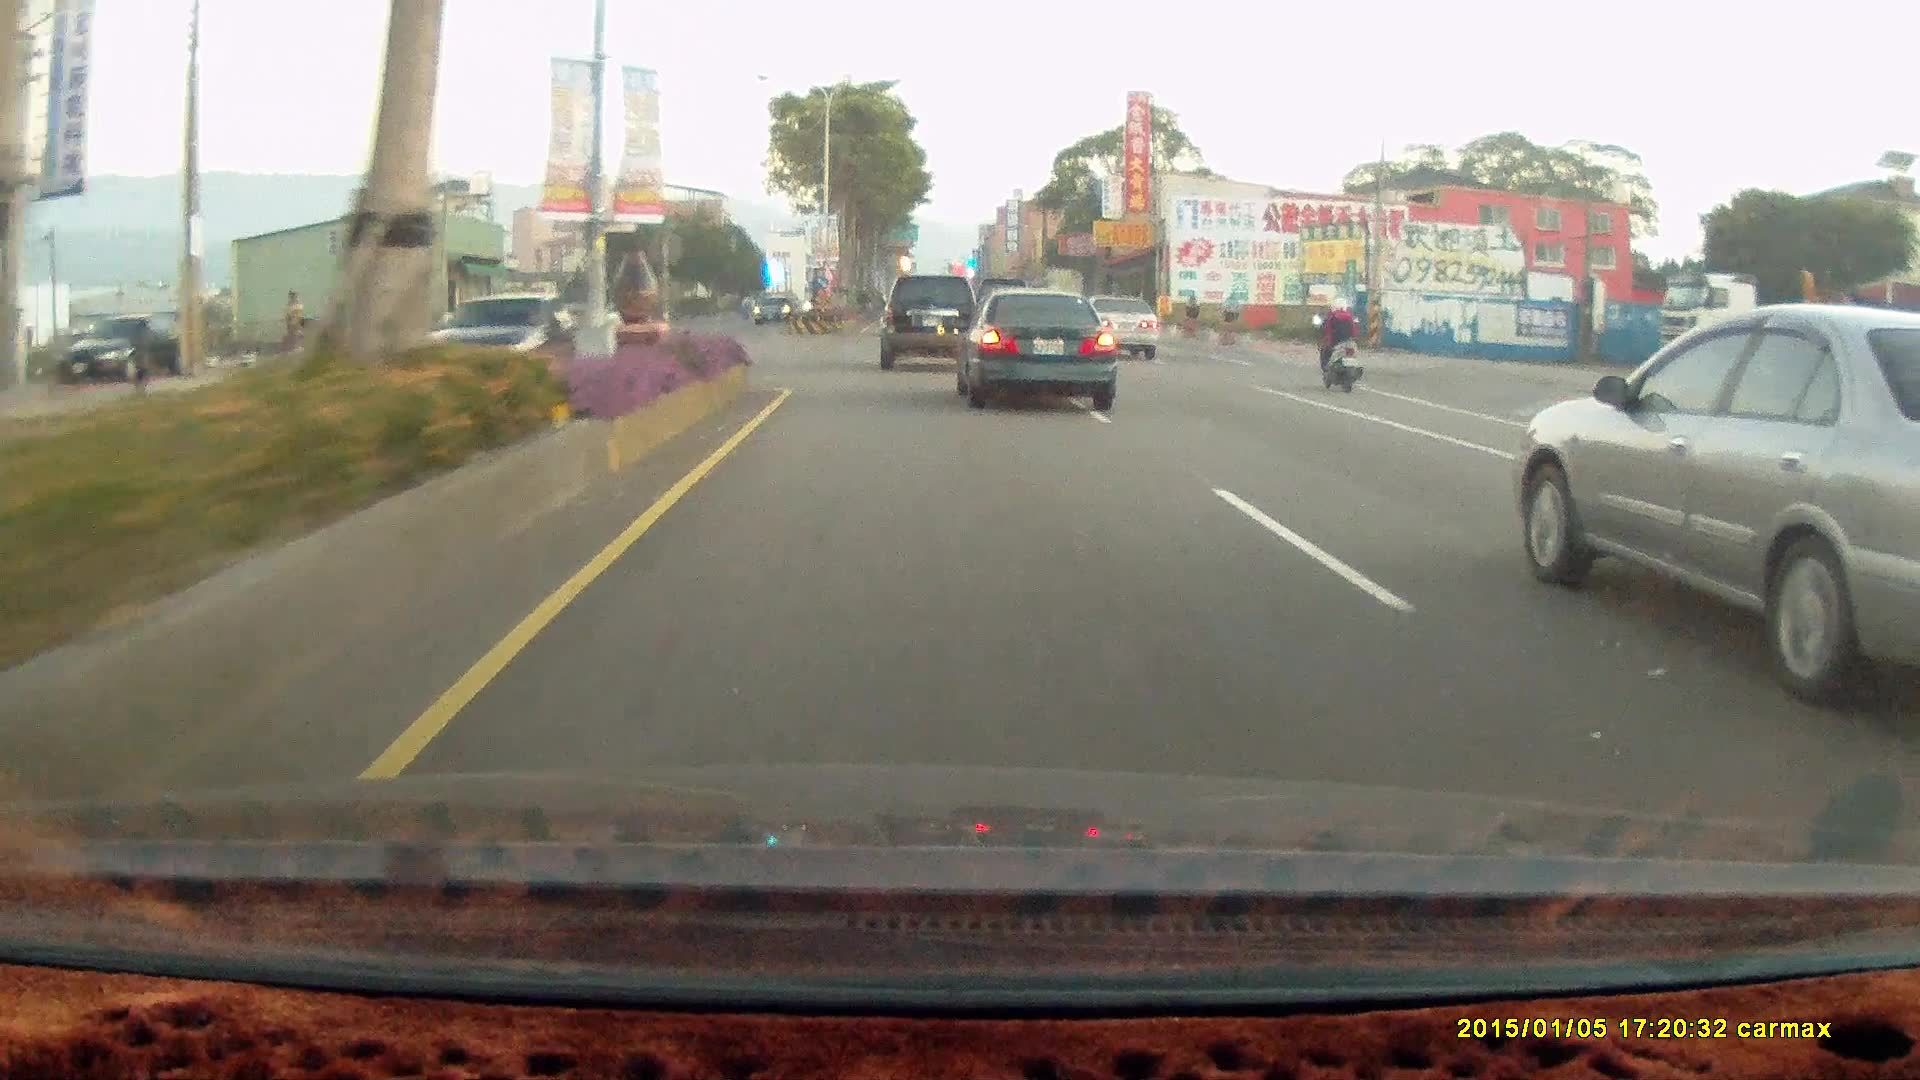pedestrian: (125, 317, 152, 392)
rider: (1305, 289, 1376, 401), (1308, 294, 1364, 391)
vehicle: (1519, 300, 1920, 708), (1654, 272, 1920, 373), (944, 291, 1109, 412), (962, 295, 1124, 416), (425, 293, 586, 388), (425, 289, 583, 385), (880, 274, 985, 374), (878, 273, 979, 370), (57, 313, 180, 387), (58, 313, 180, 386), (1078, 295, 1163, 361), (750, 297, 801, 329), (751, 294, 798, 325)
